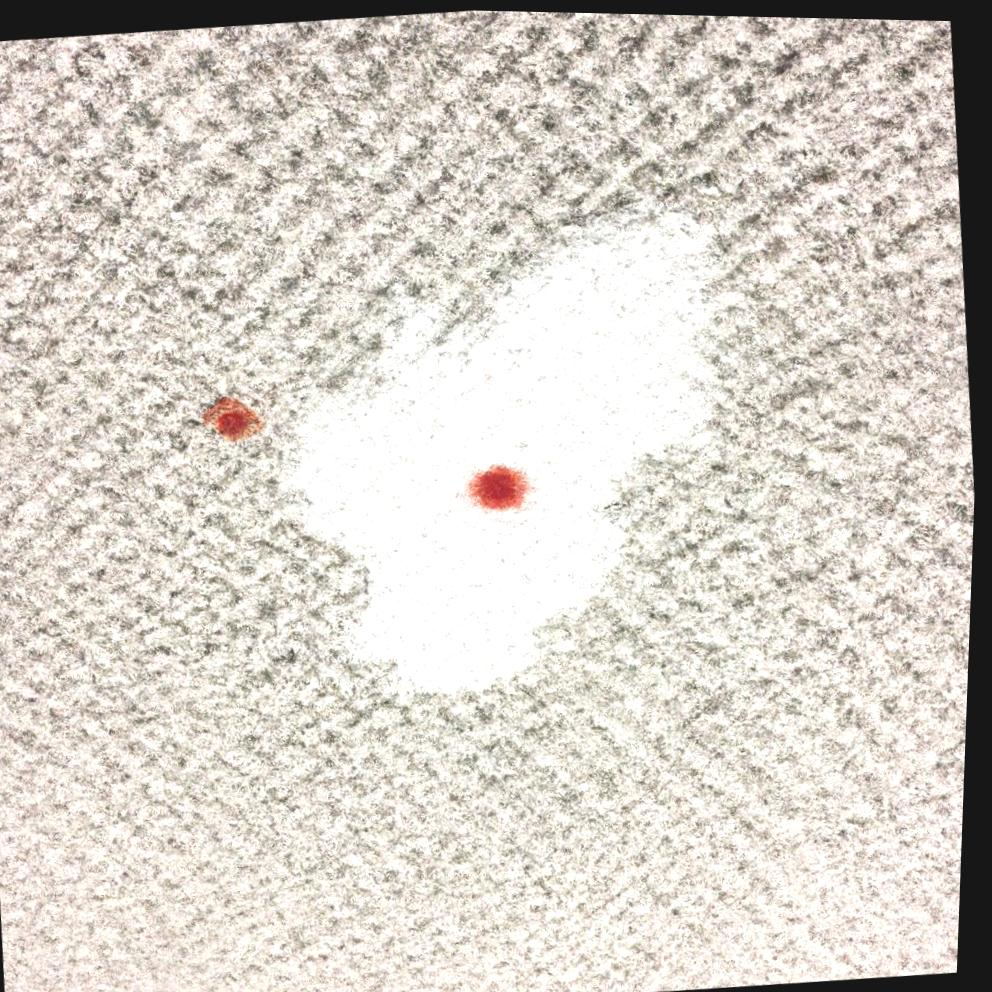Fire: (469, 464, 531, 509), (207, 397, 267, 443)
